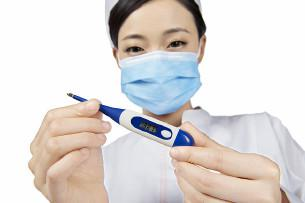OK: (114, 26, 203, 115)
